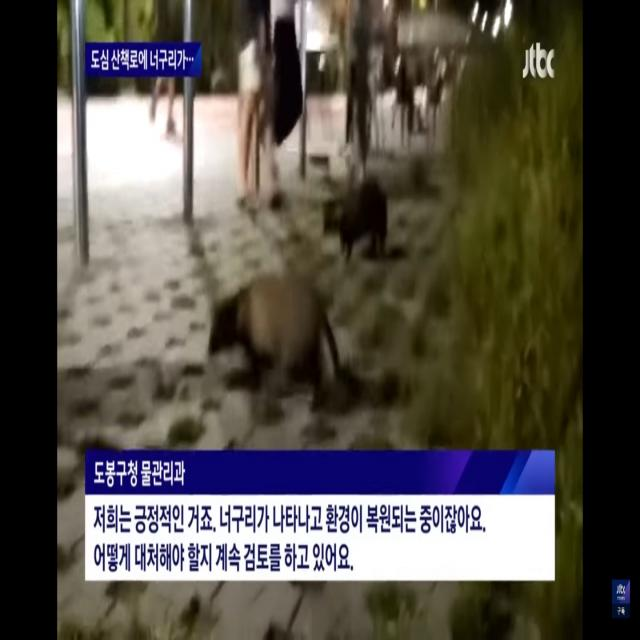racoon: (209, 258, 345, 412), (328, 168, 388, 266)
